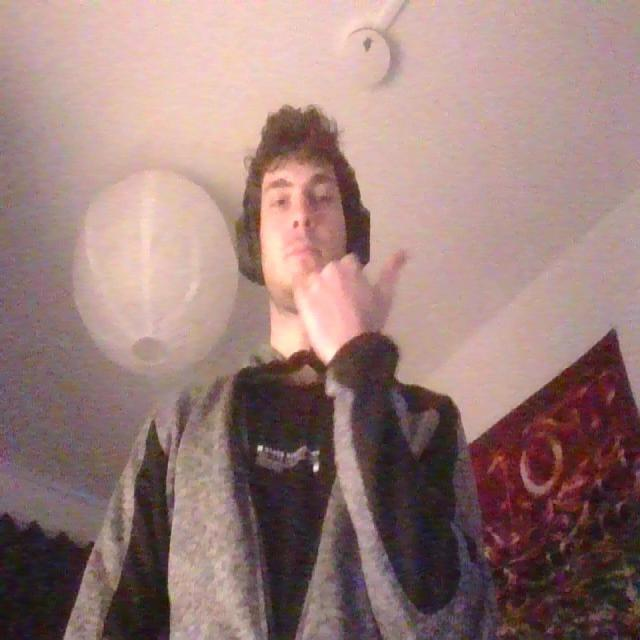right: (292, 237, 417, 351)
